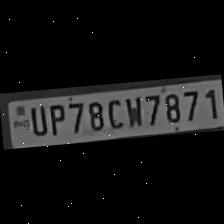1: (198, 86, 220, 120)
7: (64, 99, 86, 136), (140, 92, 162, 128), (180, 88, 201, 122)
8: (159, 90, 181, 124), (84, 98, 104, 132)
C: (102, 95, 124, 131)
P: (44, 100, 66, 138)
U: (26, 104, 47, 137)
W: (122, 94, 142, 130)
